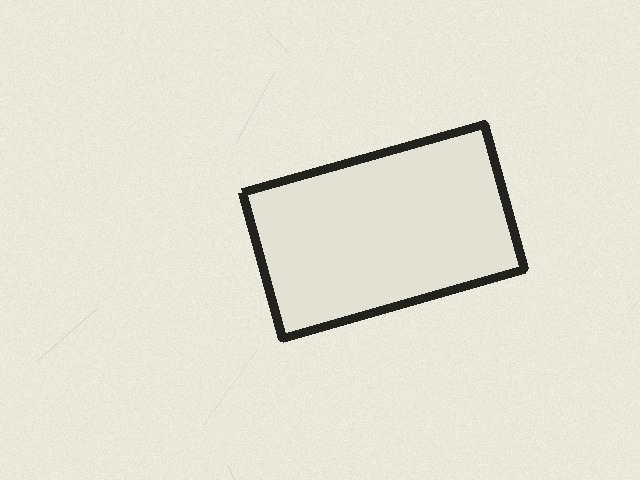parking_area: (242, 124, 524, 338)
